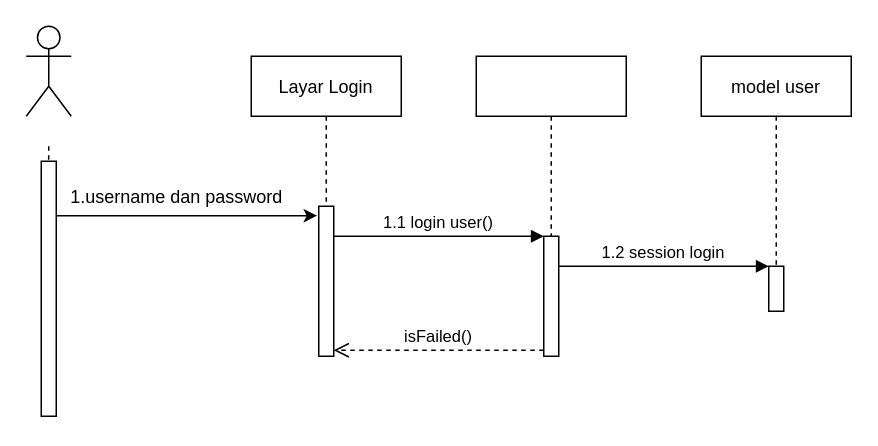
The diagram is 878 pixels wide and 446 high, and some of its shapes have lost their labels. Each missing label, with the centre of its shape:
":User" belongs at point 48,70.
"validasi user" belongs at point 550,205.
